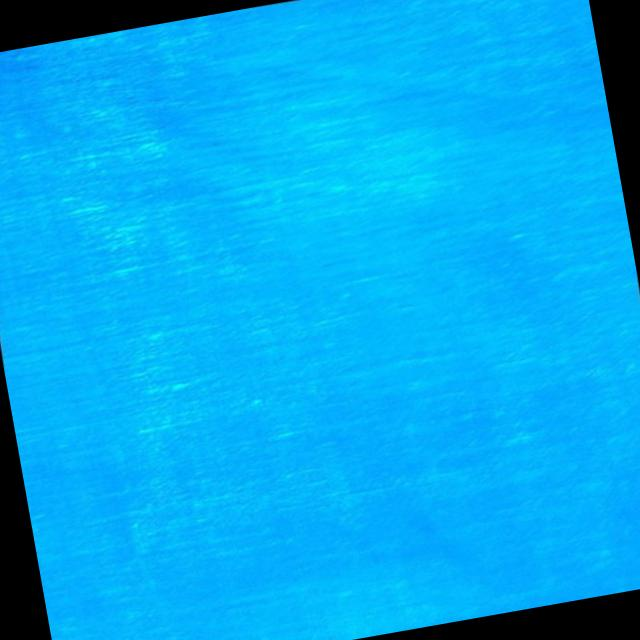color issues: (0, 26, 242, 620), (208, 80, 467, 232)
